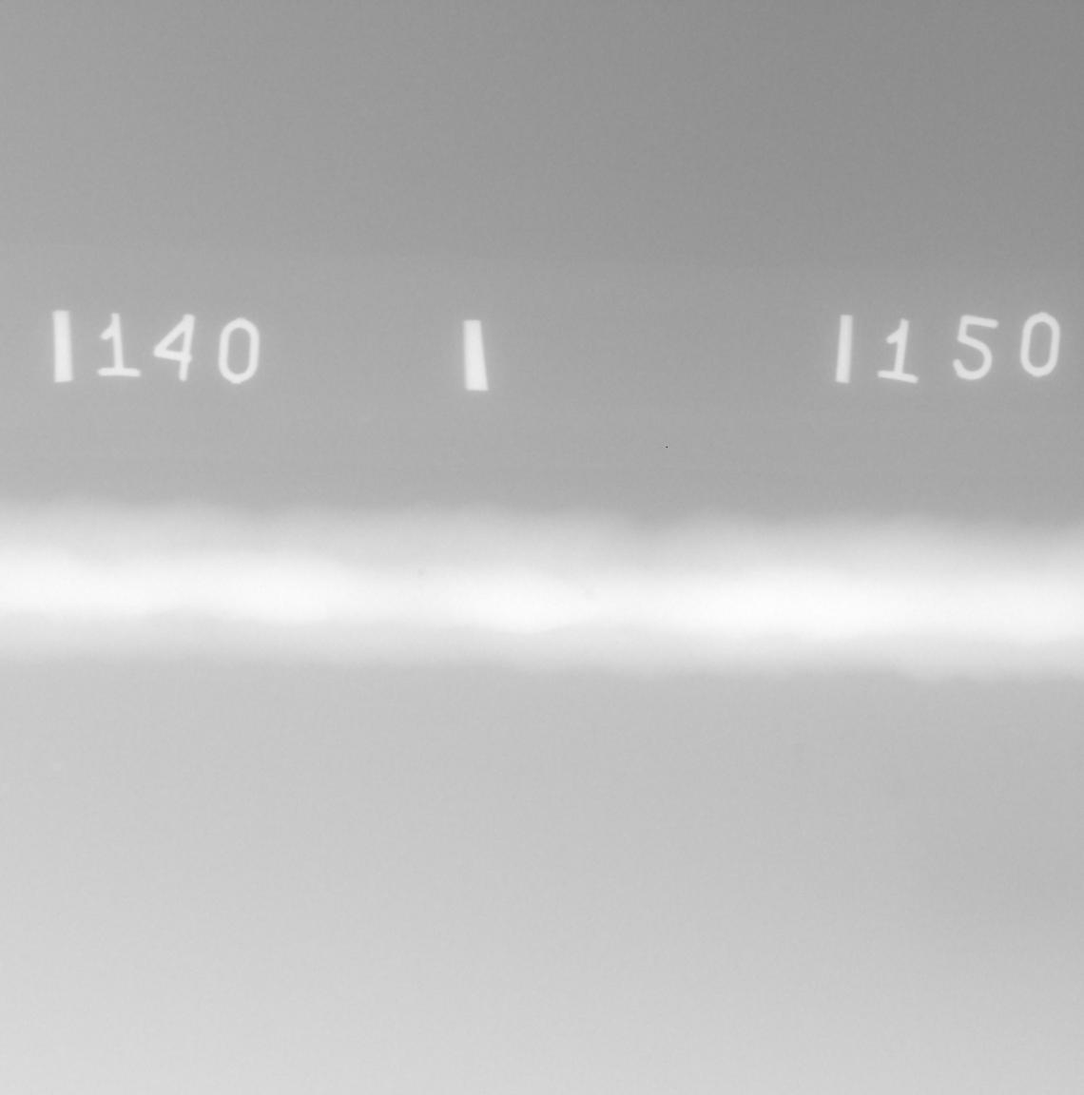Pore/Porosity: (583, 585, 598, 599), (416, 568, 426, 576), (418, 585, 424, 590), (464, 550, 470, 555), (224, 610, 229, 615), (435, 592, 439, 598)
